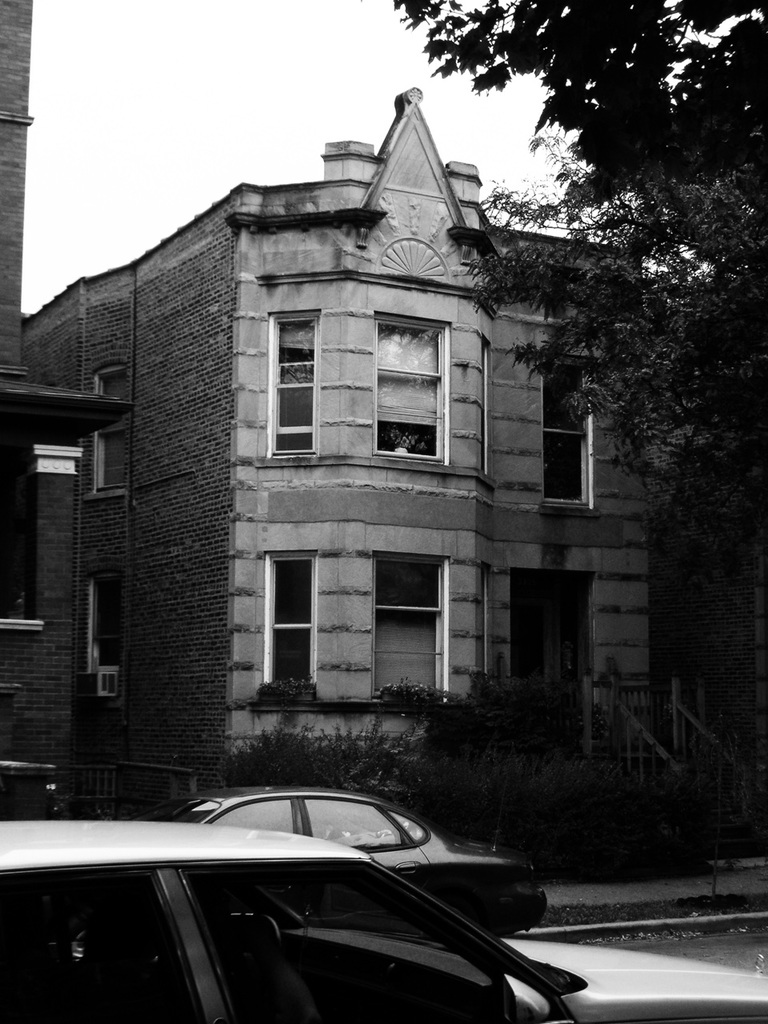Car: (0, 817, 767, 1023), (138, 780, 548, 940)
